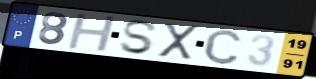3: (246, 33, 279, 69)
8: (37, 12, 69, 46)
C: (201, 28, 244, 66)
H: (65, 13, 118, 53)
S: (118, 19, 160, 56)
X: (157, 22, 200, 61)
